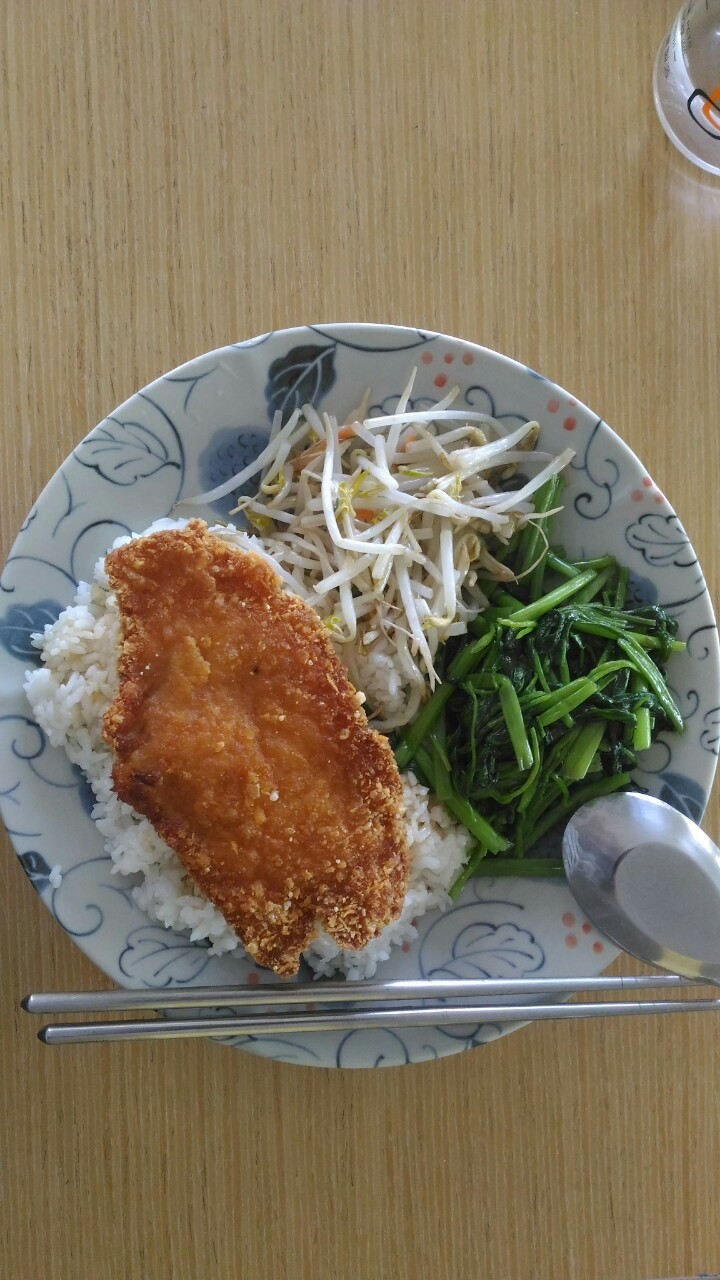fried_chicken: (109, 548, 401, 941)
mung_bean_sprouts: (324, 420, 508, 599)
rice: (45, 615, 111, 736)
water_spinach: (463, 602, 644, 807)
